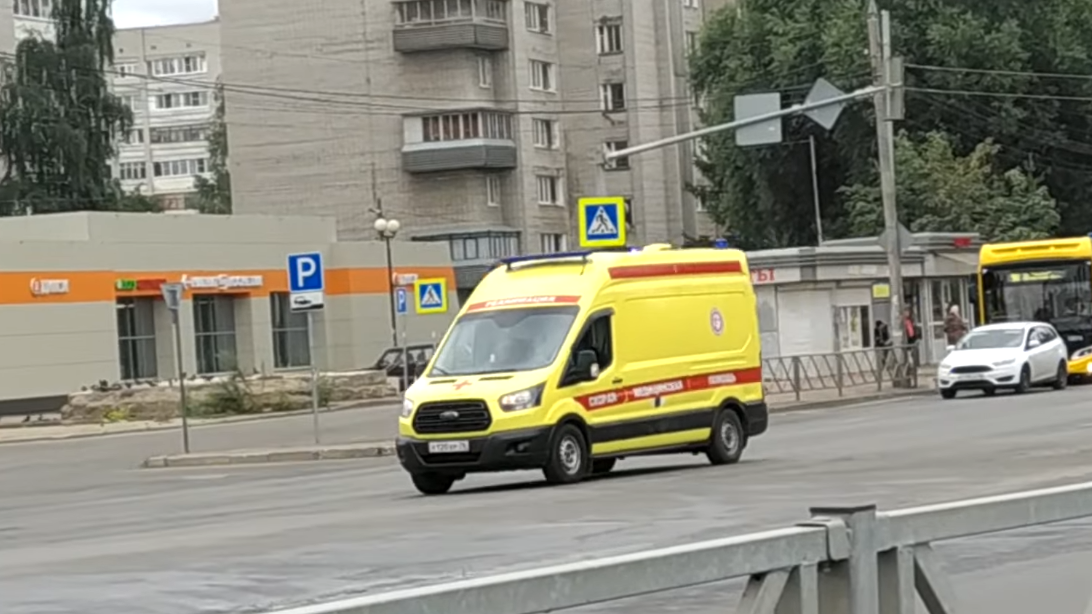intensive care unit: (396, 253, 770, 495)
non emergency car: (976, 237, 1092, 390), (938, 324, 1072, 401)
